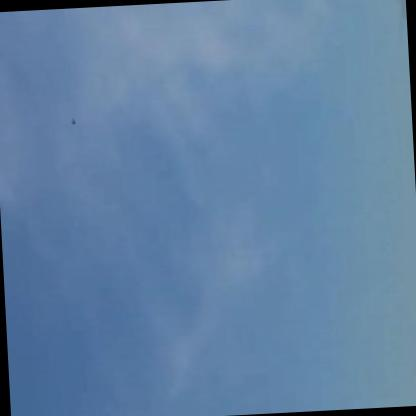plane: (63, 112, 82, 129)
